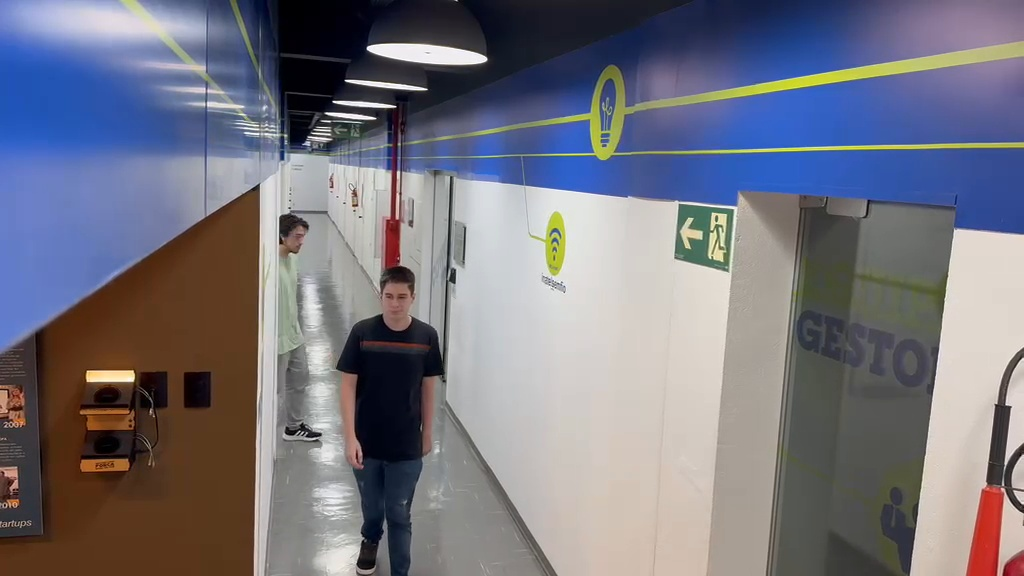person: (335, 266, 444, 573)
